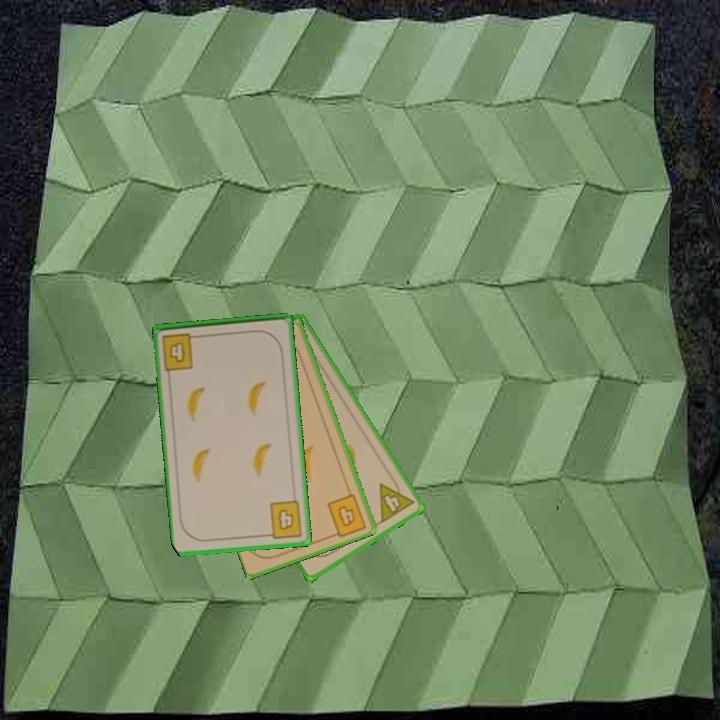4b: (324, 490, 369, 541), (158, 329, 203, 373), (262, 497, 305, 541)
4p: (376, 473, 417, 526)
